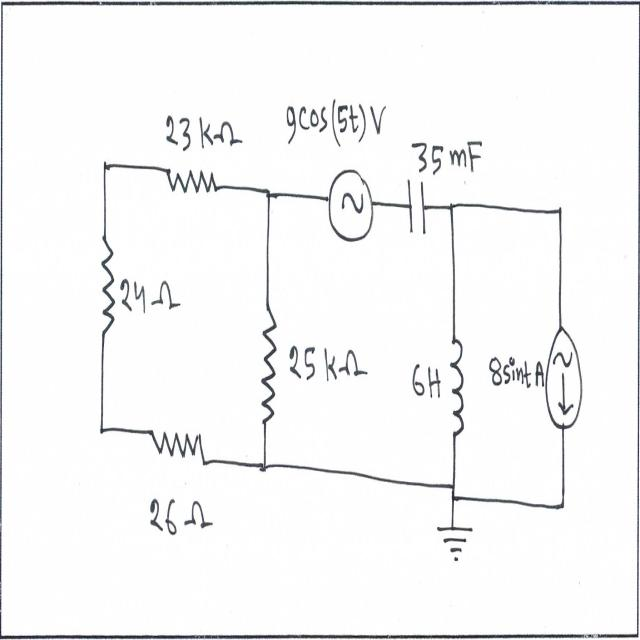ac_current: (327, 167, 375, 245)
capacitor: (403, 168, 429, 246)
current_source: (544, 322, 589, 448)
ground: (434, 516, 474, 568)
inductor: (444, 328, 469, 444)
resistor: (150, 413, 209, 483), (255, 302, 280, 432), (163, 157, 220, 206), (95, 233, 116, 343)
